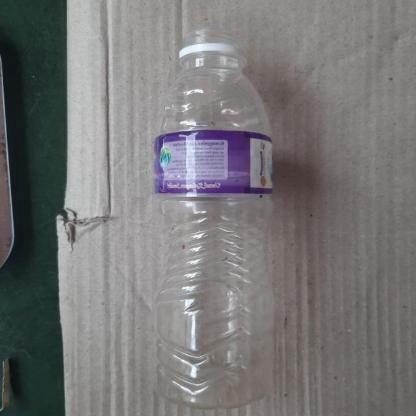Plastic Bottle: (153, 28, 277, 408)
